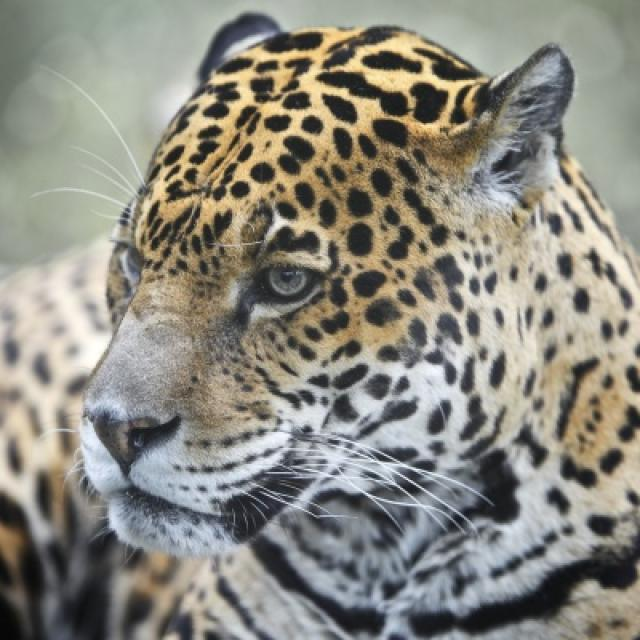Jaguar: (69, 16, 638, 638)
